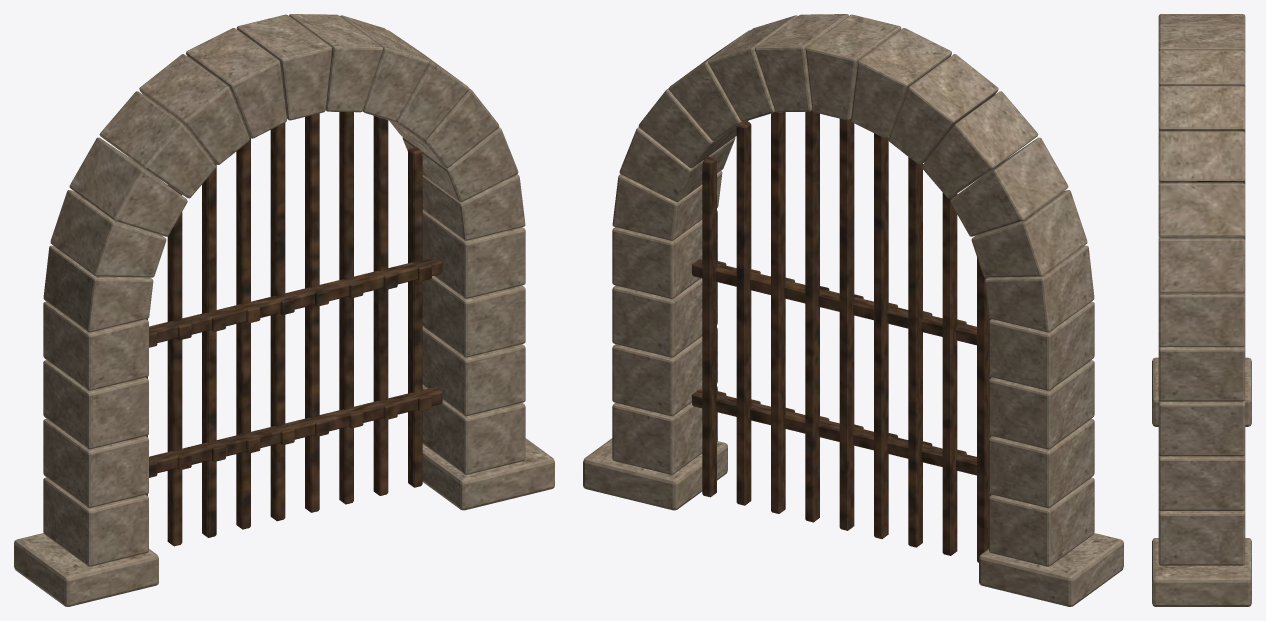
File: gate.glb
3 views of the same model, side by side, from view 1: azimuth 30°, elevation 25°; view 2: azimuth 150°, elevation 25°; view 3: azimuth 270°, elevation 25° (orthographic). The views are drawn at different scales.
Parts seen in each view (by area): view 1: gate-arch, gate-bars; view 2: gate-arch, gate-bars; view 3: gate-arch.
Boxes of the visible parts, x1=… form: gate-arch: x1=14, y1=14, x2=554, y2=606; gate-bars: x1=146, y1=112, x2=442, y2=546; gate-arch: x1=583, y1=14, x2=1123, y2=606; gate-bars: x1=692, y1=110, x2=991, y2=562; gate-arch: x1=1152, y1=14, x2=1251, y2=606.
Bounding box in the file's own units: 2.8 × 2.69 × 0.53.
Materials: 1 (1 with a texture image).
